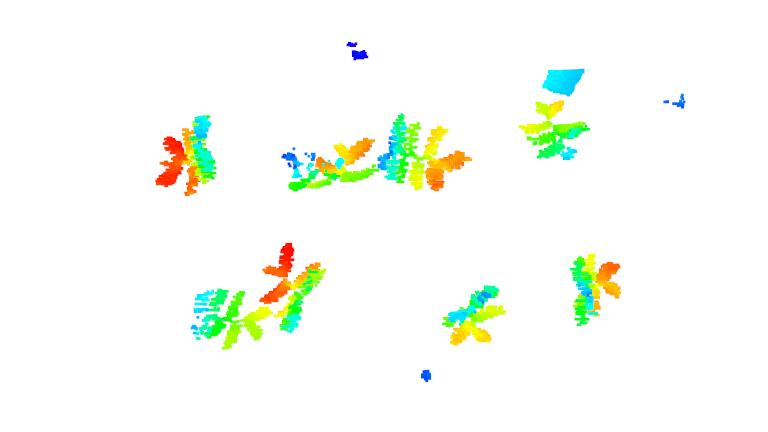chickpea: (379, 114, 475, 193), (255, 241, 326, 334), (183, 282, 274, 350), (151, 112, 221, 195), (284, 131, 376, 190), (524, 96, 595, 166), (568, 252, 623, 331), (442, 286, 505, 347)
